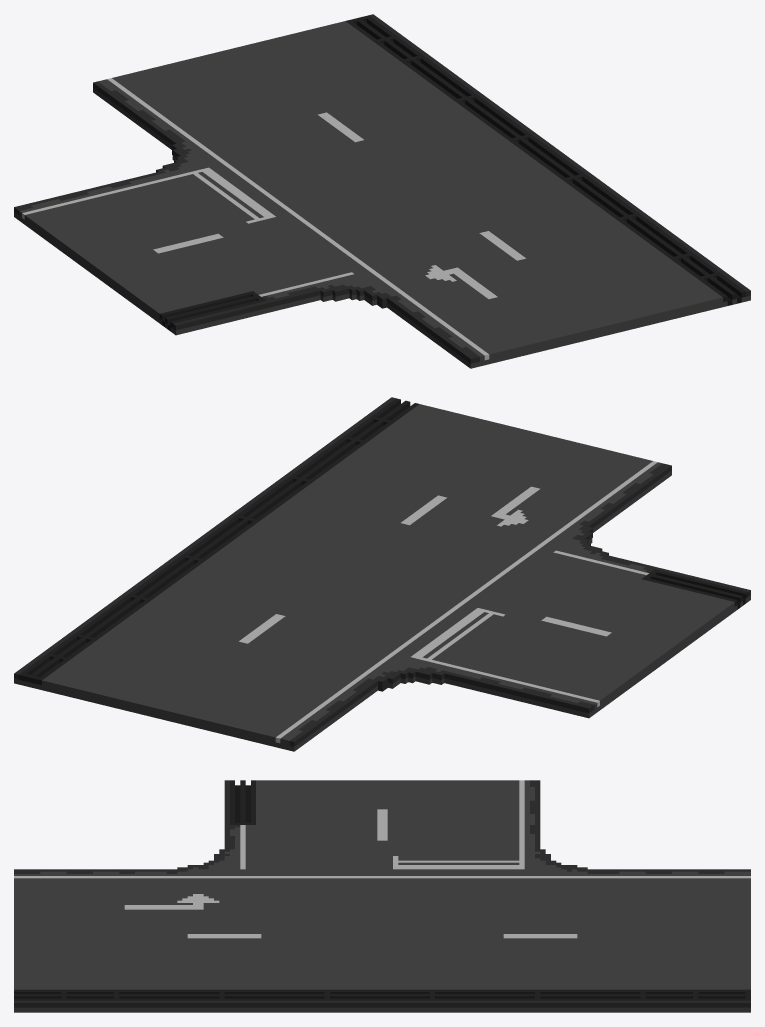
The model's file is Road1.obj.
3 views of the same model, one above another, from view 1: azimuth 30°, elevation 25°; view 2: azimuth 150°, elevation 25°; view 3: azimuth 270°, elevation 25° (orthographic). The views are drawn at different scales.
Bounding box in the file's own units: 10 × 0.2 × 14.
Materials: 1 (1 with a texture image).
